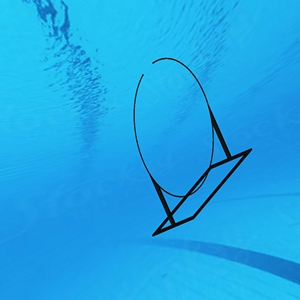circle: (132, 56, 255, 238)
